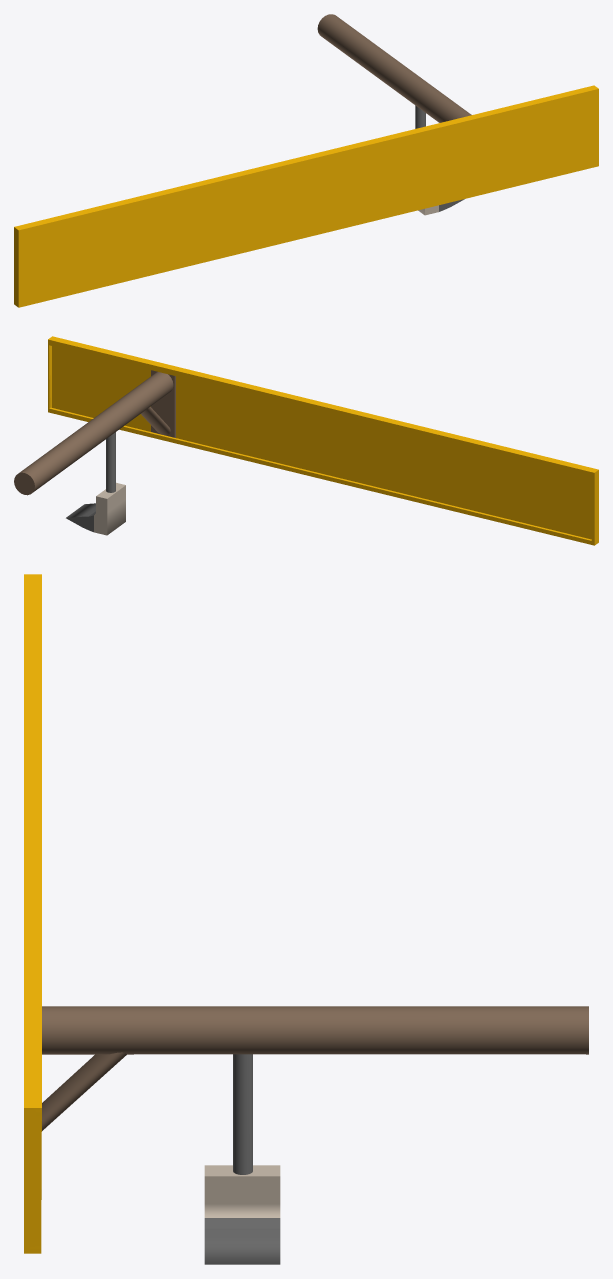
The model's file is Cuchilla.fbx.
3 renders of one model, top to bottom at view 1: azimuth 30°, elevation 25°; view 2: azimuth 150°, elevation 25°; view 3: azimuth 270°, elevation 25°, orthographic. The views are drawn at different scales.
Parts seen in each view (by area): view 1: pasted__pCube7, pCylinder2; view 2: pasted__pCube7, pCylinder2, pCube6, pCube5, pasted__pCylinder3, pasted__pCylinder2; view 3: pCylinder2, pasted__pCube7, pCube6, pasted__pCylinder3, pasted__pCylinder2.
Boxes of the visible parts, left/top/right/bottom form: pasted__pCube7: left=14, top=85, right=598, bottom=307; pCylinder2: left=317, top=14, right=471, bottom=122; pasted__pCube7: left=48, top=336, right=598, bottom=545; pCylinder2: left=14, top=372, right=173, bottom=495; pCube6: left=66, top=482, right=125, bottom=535; pCube5: left=151, top=370, right=175, bottom=437; pasted__pCylinder3: left=106, top=432, right=115, bottom=492; pasted__pCylinder2: left=141, top=407, right=170, bottom=434; pCylinder2: left=42, top=1006, right=588, bottom=1054; pasted__pCube7: left=24, top=574, right=41, bottom=1253; pCube6: left=204, top=1165, right=280, bottom=1264; pasted__pCylinder3: left=233, top=1054, right=252, bottom=1174; pasted__pCylinder2: left=42, top=1052, right=126, bottom=1130.
Size of the model in its own units: 17.35 by 3.74 by 7.76.
